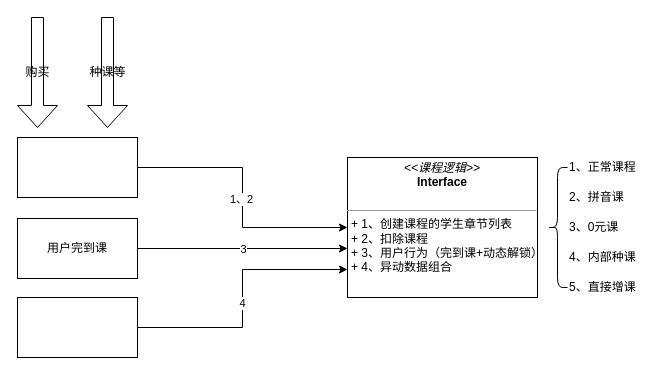
The diagram is 665 pixels wide and 375 high, and some of its shapes have lost their labels. The shapes that lost their labels are listed below. From the top down, each one's centre as x and y in pixels, then its label:
At (x=77, y=167): "学生获课".
At (x=77, y=327): "课程异动".
